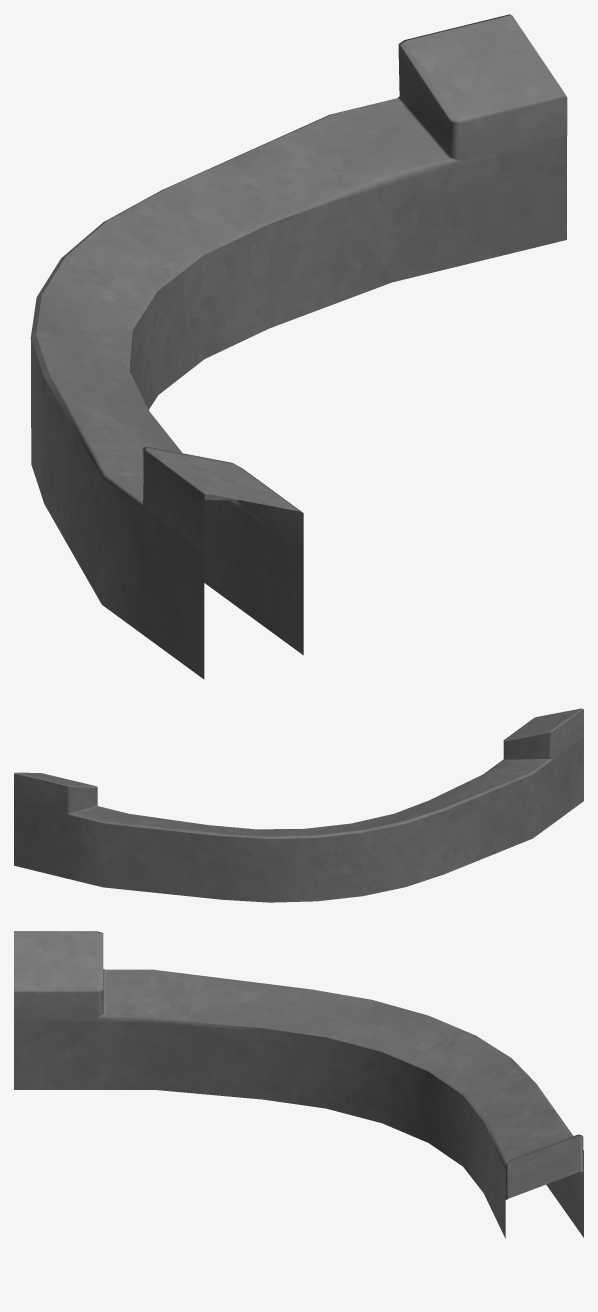
File: BrickRailing_InsideCurved.fbx
3 renders of one model, top to bottom at view 1: azimuth 30°, elevation 25°; view 2: azimuth 150°, elevation 25°; view 3: azimuth 270°, elevation 25°, orthographic. The views are drawn at different scales.
Parts seen in each view (by area): view 1: BrickRailing_InsideCurved; view 2: BrickRailing_InsideCurved; view 3: BrickRailing_InsideCurved.
Part boxes in pixels (x1,y1,x2,y2): BrickRailing_InsideCurved: [30, 14, 567, 679]; BrickRailing_InsideCurved: [14, 708, 583, 902]; BrickRailing_InsideCurved: [14, 931, 583, 1238].
Bounding box in the file's own units: 544 × 133 × 544.
Materials: 1 (1 with a texture image).
